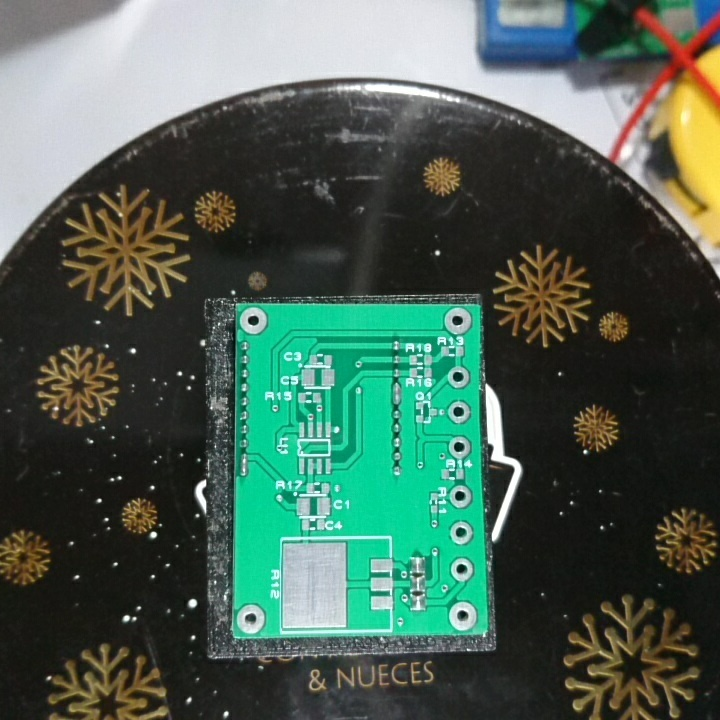F: (235, 601, 270, 635), (236, 305, 273, 336), (446, 600, 481, 631), (441, 306, 476, 335), (446, 518, 476, 547), (447, 555, 478, 583), (444, 398, 474, 426), (446, 363, 473, 391), (447, 483, 476, 509), (447, 434, 473, 462)
P: (236, 451, 252, 478), (388, 380, 404, 406)
